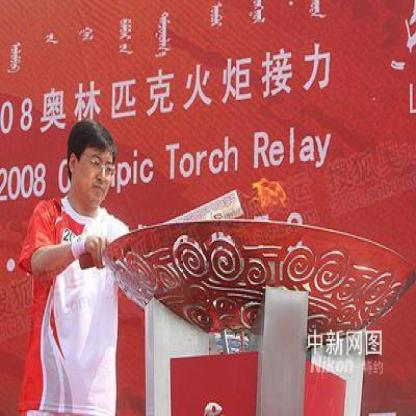fire: (245, 155, 286, 211)
